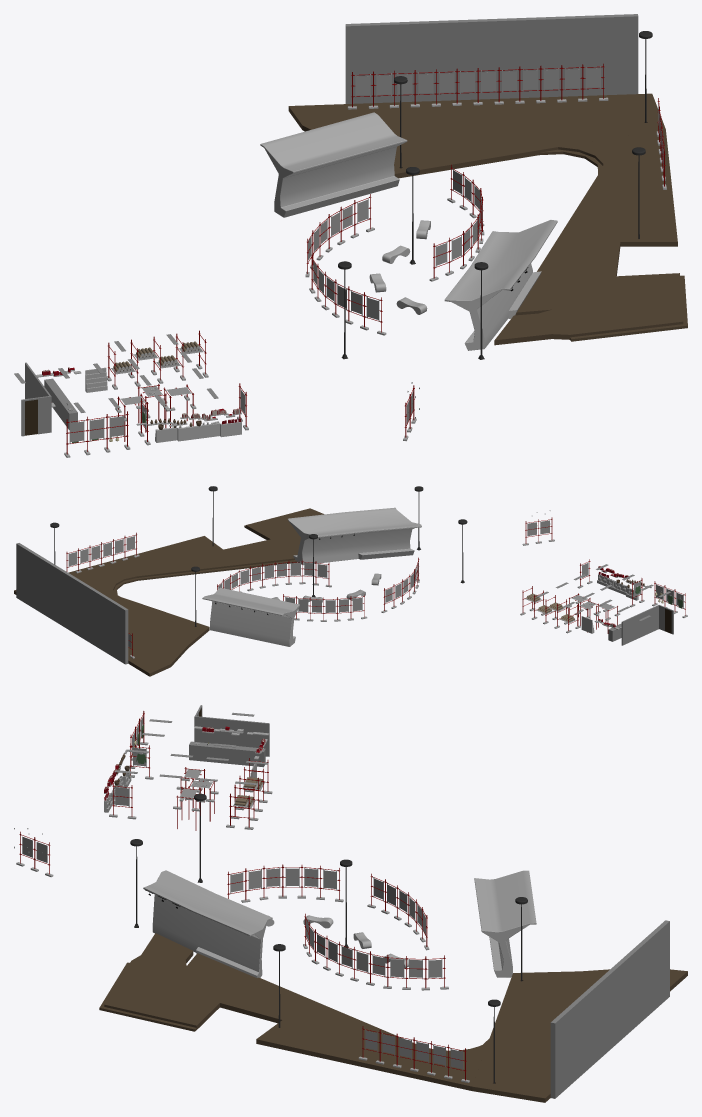
File: FBX_Progetto_03.fbx
3 views of the same model, one above another, from view 1: azimuth 30°, elevation 25°; view 2: azimuth 150°, elevation 25°; view 3: azimuth 270°, elevation 25° (orthographic). The views are drawn at different scales.
Parts seen in each view (by area): view 1: MSH_Pedana_01, polySurface14, MSH_Pedana_06, MSH_PancaEspositore_02, MSH_PancaEspositore_03, polySurface142, polySurface12, MSH_Pedana_04, MSH_Pedana_02, polySurface10, Oggetto_1764; view 2: polySurface14, MSH_Pedana_01, MSH_PancaEspositore_03, MSH_Pedana_06, MSH_PancaEspositore_02, polySurface12, MSH_Pedana_03, polySurface142, MSH_Pedana_04; view 3: MSH_Pedana_01, polySurface14, MSH_Pedana_06, MSH_PancaEspositore_03, MSH_PancaEspositore_02, polySurface12, polySurface10, MSH_Pedana_02.
Part boxes in pixels (bbox=[...]): MSH_Pedana_01: bbox=[494, 129, 683, 345]; polySurface14: bbox=[345, 14, 638, 103]; MSH_Pedana_06: bbox=[288, 93, 665, 178]; MSH_PancaEspositore_02: bbox=[260, 112, 407, 217]; MSH_PancaEspositore_03: bbox=[444, 220, 557, 350]; polySurface142: bbox=[155, 421, 241, 442]; polySurface12: bbox=[25, 362, 51, 433]; MSH_Pedana_04: bbox=[558, 136, 625, 172]; MSH_Pedana_02: bbox=[570, 275, 687, 341]; polySurface10: bbox=[44, 378, 77, 429]; Oggetto_1764: bbox=[21, 397, 39, 436]; polySurface14: bbox=[16, 543, 128, 664]; MSH_Pedana_01: bbox=[68, 508, 323, 582]; MSH_PancaEspositore_03: bbox=[287, 507, 421, 565]; MSH_Pedana_06: bbox=[14, 587, 209, 676]; MSH_PancaEspositore_02: bbox=[202, 587, 299, 646]; polySurface12: bbox=[621, 605, 664, 645]; MSH_Pedana_03: bbox=[126, 560, 297, 580]; polySurface142: bbox=[597, 574, 638, 600]; MSH_Pedana_04: bbox=[84, 576, 136, 594]; MSH_Pedana_01: bbox=[104, 933, 477, 1090]; polySurface14: bbox=[550, 920, 669, 1098]; MSH_Pedana_06: bbox=[472, 969, 687, 1102]; MSH_PancaEspositore_03: bbox=[143, 870, 272, 977]; MSH_PancaEspositore_02: bbox=[474, 870, 536, 977]; polySurface12: bbox=[194, 712, 269, 756]; polySurface10: bbox=[189, 741, 265, 767]; MSH_Pedana_02: bbox=[99, 962, 196, 1031].
Size of the model in its own units: 5180 by 704 by 4043.
